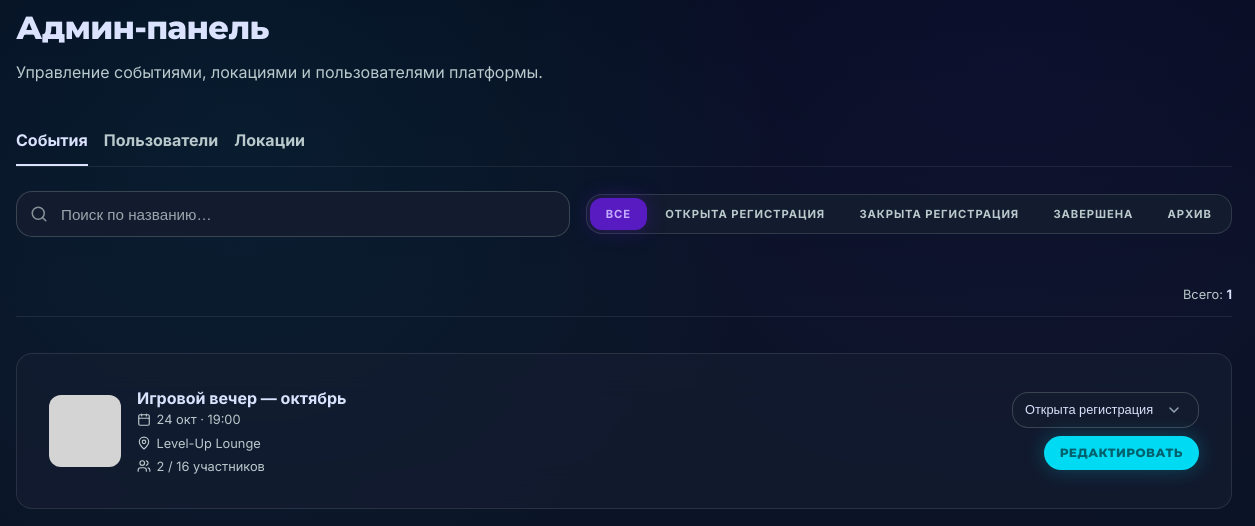
Test case: AdminPage › filters events by archived status
The width and height of the screenshot is (1255, 526).
Expected: the button "Игровой вечер — октябрь" is shown, left=137, top=386, right=346, bottom=410
Click the button "Архив".
click(1190, 214)  # box left=1152, top=198, right=1228, bottom=230
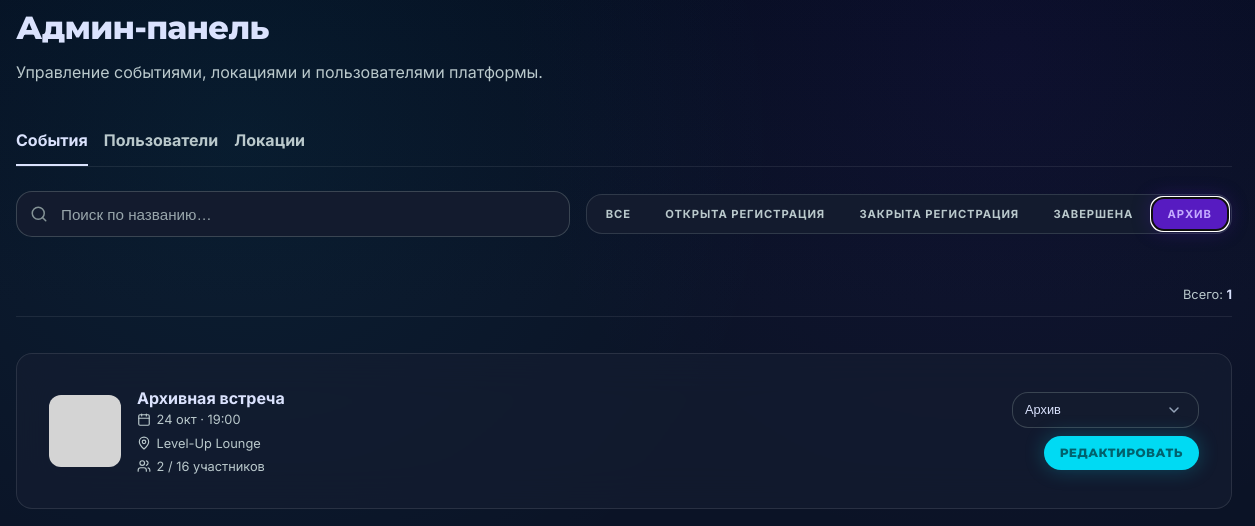
Expected: the text "Всего:" is shown, left=1183, top=287, right=1226, bottom=302
Now the button "Архивная встреча" is shown, box left=137, top=386, right=285, bottom=410
Now the button "Игровой вечер — октябрь" is gone
